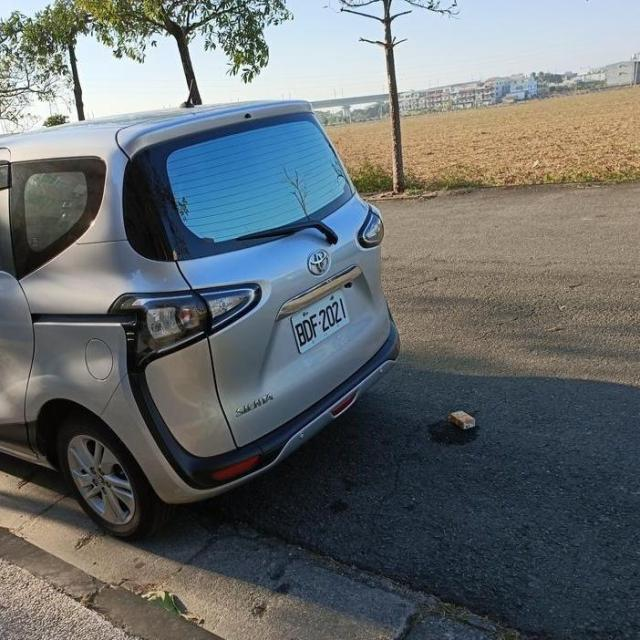W: (283, 283, 358, 358)
